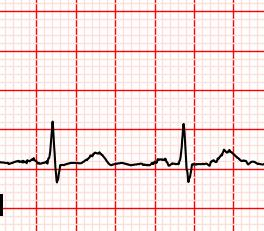ST Depression: (33, 151, 69, 184), (170, 155, 201, 185)
